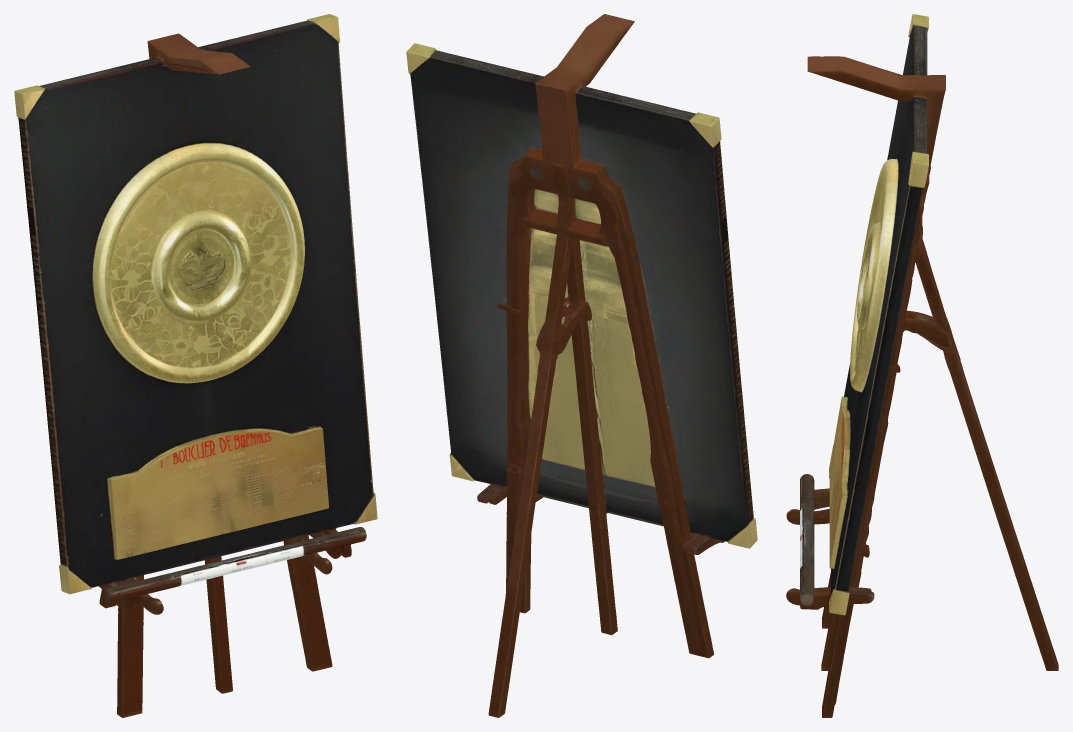
File: brennus.glb
3 renders of one model, left to right at view 1: azimuth 30°, elevation 25°; view 2: azimuth 150°, elevation 25°; view 3: azimuth 270°, elevation 25°, orthographic. The views are drawn at different scales.
Visible parts, largest first — view 1: mesh_node; view 2: mesh_node; view 3: mesh_node.
Boxes of the visible parts, left/top/right/bottom form: mesh_node: left=14, top=14, right=377, bottom=717; mesh_node: left=406, top=14, right=757, bottom=717; mesh_node: left=786, top=14, right=1058, bottom=717.
Size of the model in its own units: 0.9996 by 1.9 by 0.775.
1 material, 1 textured.
